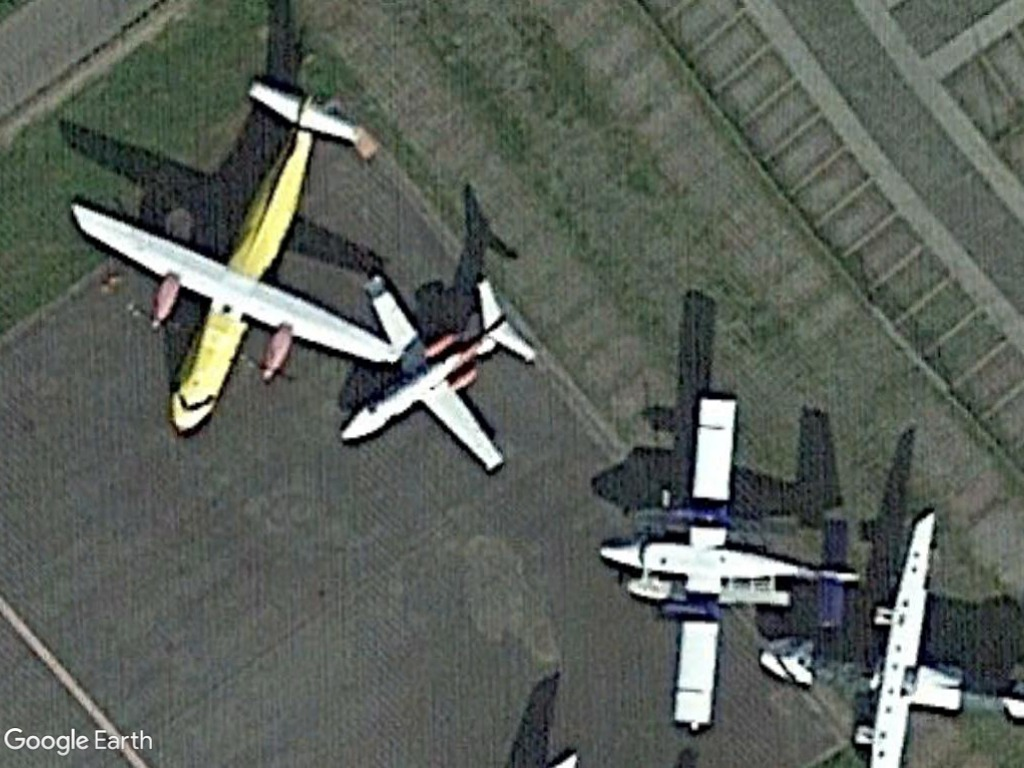chartered: (335, 260, 535, 475)
propeller: (61, 75, 404, 442), (599, 385, 860, 737)
